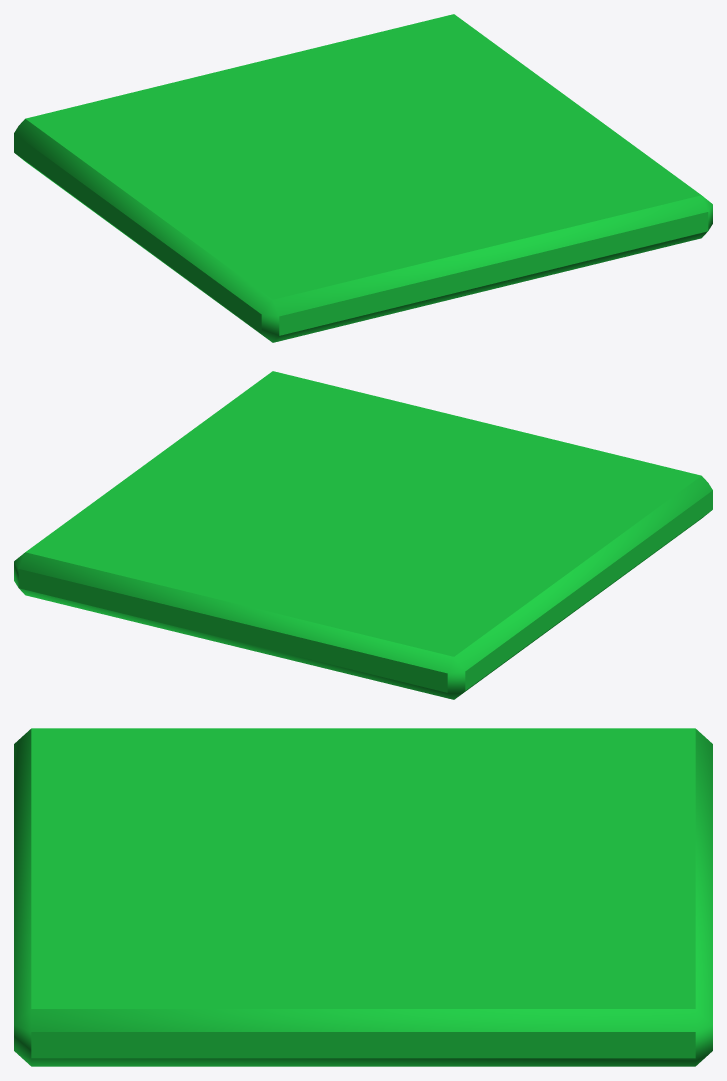
Rendered from Podest.fbx.
3 views of the same model, one above another, from view 1: azimuth 30°, elevation 25°; view 2: azimuth 150°, elevation 25°; view 3: azimuth 270°, elevation 25° (orthographic). The views are drawn at different scales.
Visible parts, largest first — view 1: Podest; view 2: Podest; view 3: Podest.
Boxes of the visible parts, <box> form: Podest: <box>14,14,712,342</box>; Podest: <box>14,371,712,699</box>; Podest: <box>14,728,712,1066</box>.
Bounding box in the file's own units: 200 × 18.23 × 200.
